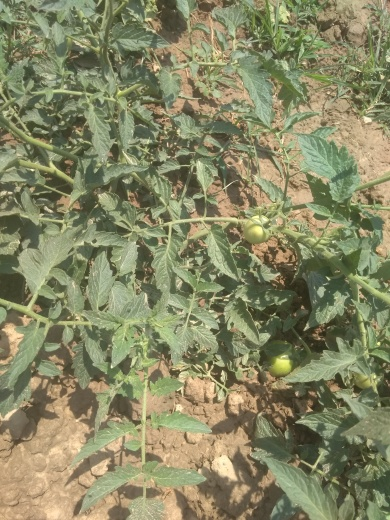tomato: (234, 207, 274, 252), (262, 348, 298, 386)
tomato plant: (9, 8, 229, 365), (159, 198, 390, 497)
